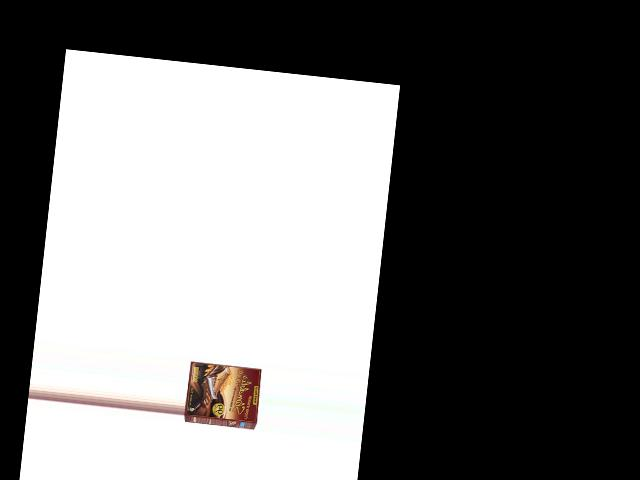chocolate: (182, 354, 264, 433)
